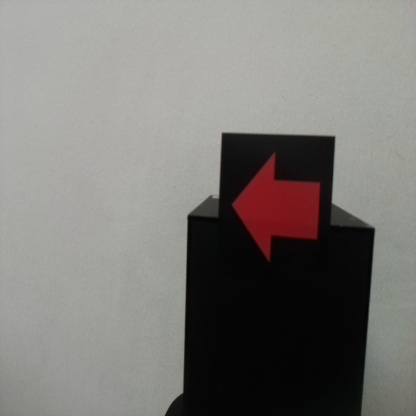id_4: (221, 134, 333, 288)
